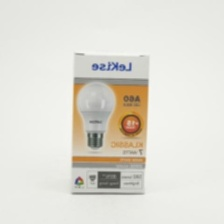carton: (65, 46, 154, 198)
